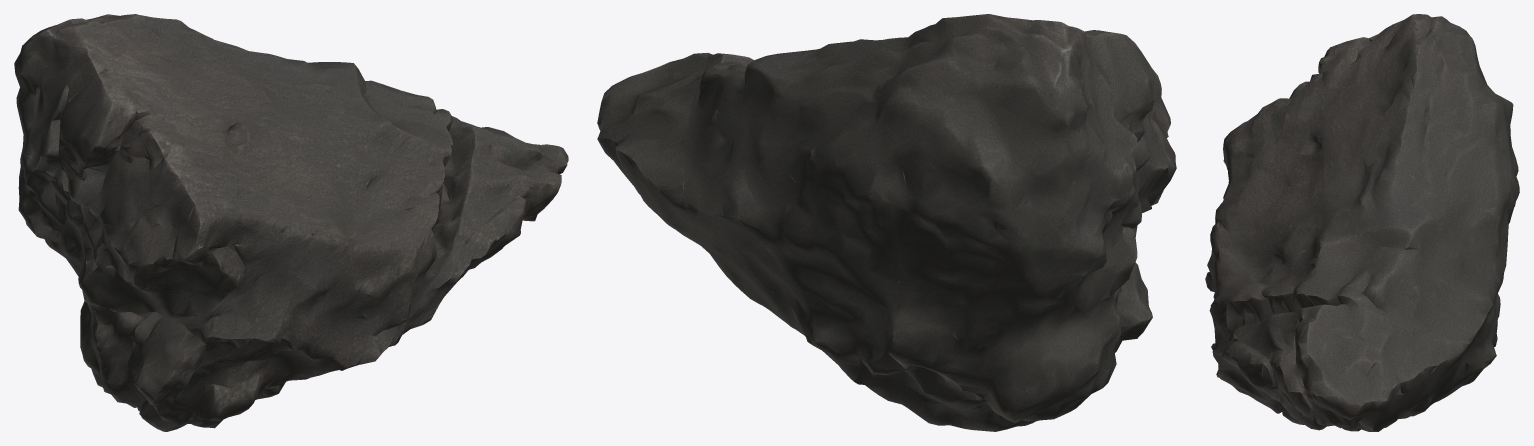
Rendered from carbonaceous_asteroid_04_angular.glb.
The picture shows the model from 3 angles, left to right: view 1: azimuth 30°, elevation 25°; view 2: azimuth 150°, elevation 25°; view 3: azimuth 270°, elevation 25°; orthographic projection. The views are drawn at different scales.
Visible parts, largest first — view 1: mesh_node; view 2: mesh_node; view 3: mesh_node.
Part boxes in pixels (<box>): mesh_node: <box>14,14,568,431</box>; mesh_node: <box>597,14,1176,431</box>; mesh_node: <box>1205,14,1519,431</box>.
Size of the model in its own units: 2 by 1.49 by 1.19.
Materials: 1 (1 with a texture image).
